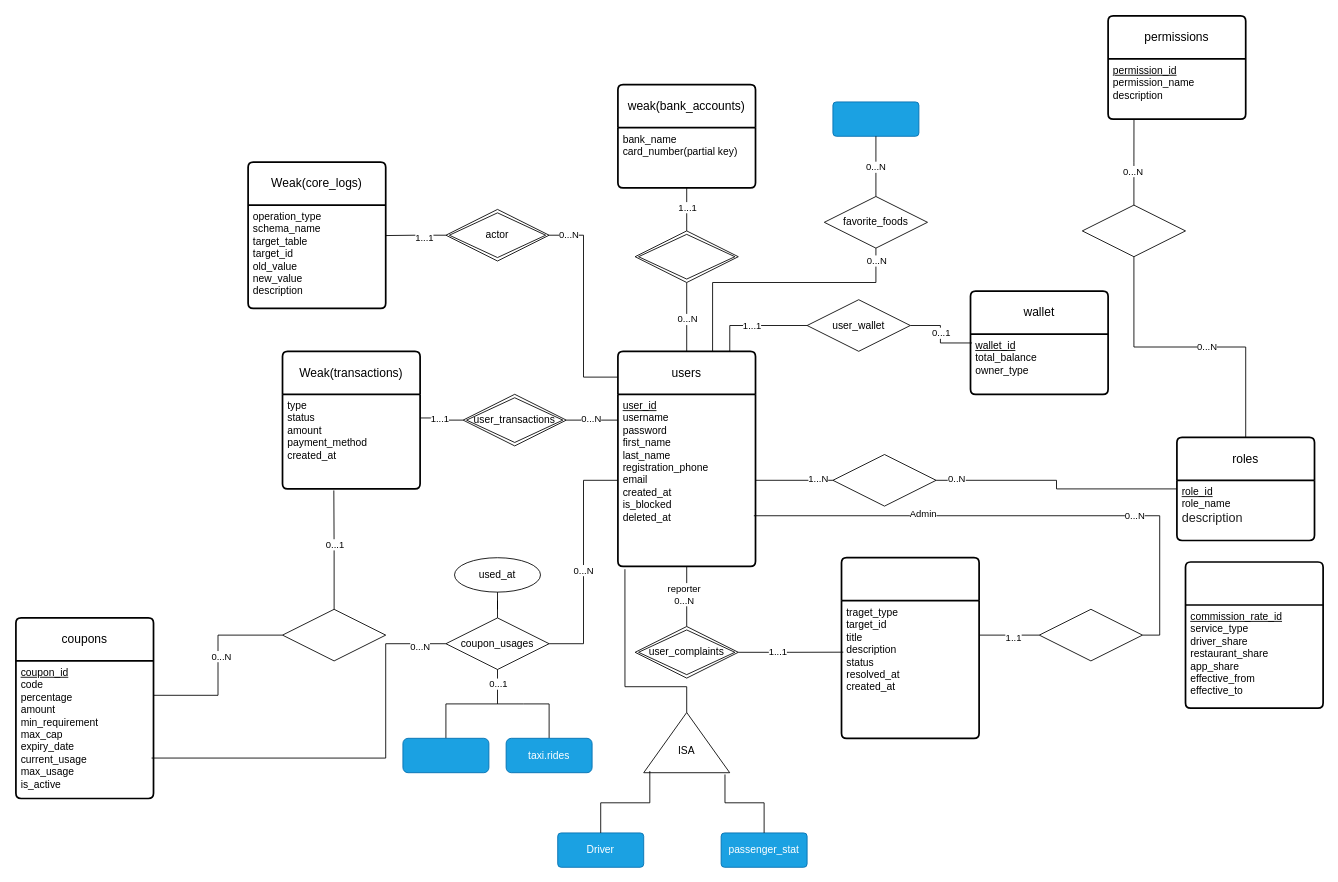
The diagram is 1338 pixels wide and 882 high, and some of its shapes have lost their labels. The shapes that lost their labels are listed below. From the top down, each one's box as (x1, y1, x2, y2) in pixels, then its label:
(832, 101, 919, 136): food.foods
(1081, 204, 1186, 257): role_permissions
(634, 230, 738, 283): saved_accounts
(832, 454, 936, 506): users_role
(282, 608, 386, 661): used_coupon
(840, 556, 980, 739): Weak(complaints)
(1038, 608, 1143, 661): assigned_admin
(1184, 561, 1324, 709): commission_rates
(402, 737, 489, 773): food.food_orders
